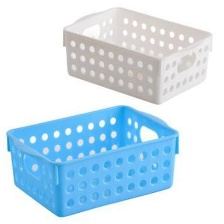plastic_box: (0, 99, 187, 224), (55, 2, 220, 106)
